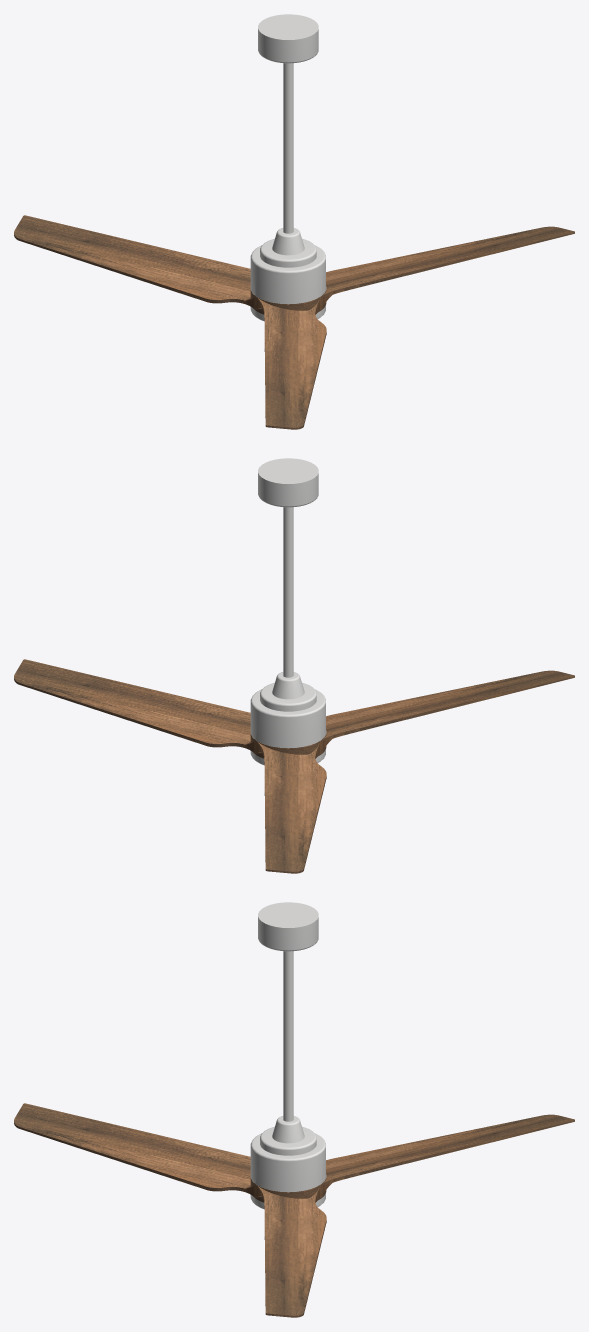
File: ventilador.glb
The picture shows the model from 3 angles, top to bottom: view 1: azimuth 30°, elevation 25°; view 2: azimuth 150°, elevation 25°; view 3: azimuth 270°, elevation 25°; orthographic projection.
Visible parts, largest first — view 1: root; view 2: root; view 3: root.
Part boxes in pixels (x1,y1,x2,y2): root: (14,14,574,429); root: (14,458,574,873); root: (14,902,574,1317).
Size of the model in its own units: 1.19 by 0.7457 by 1.34.
4 materials, 2 textured.
